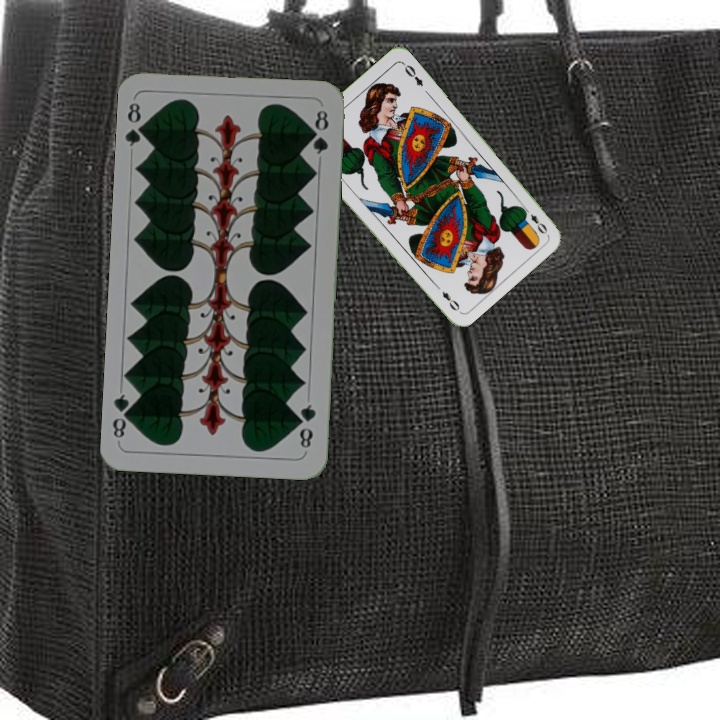EO: (519, 203, 550, 237)
G8: (122, 99, 150, 149), (294, 400, 319, 451)
